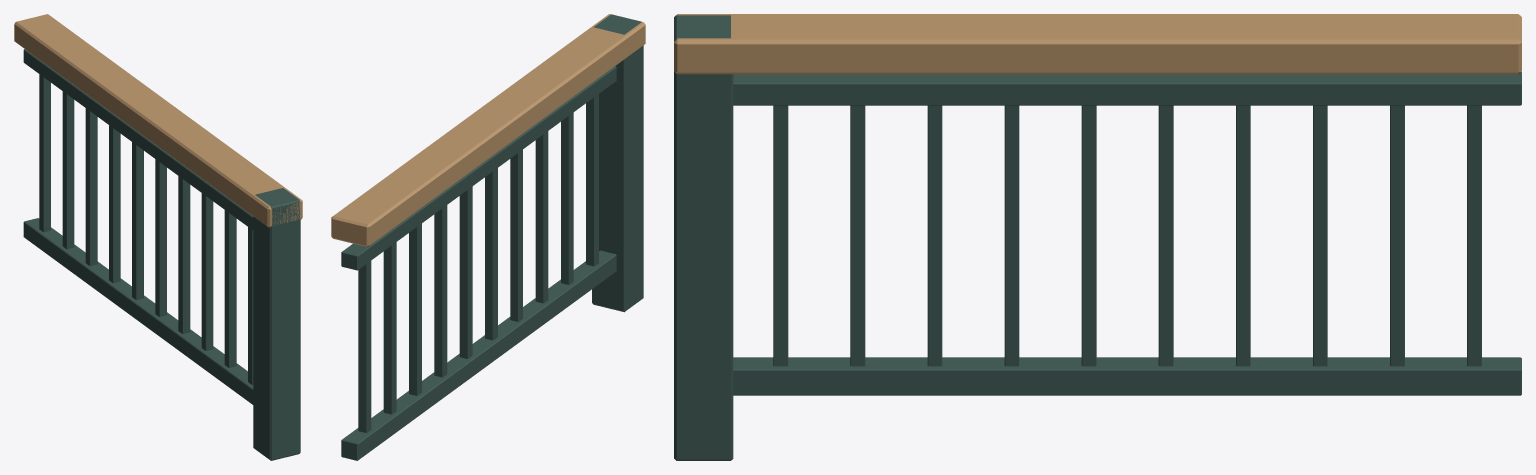
File: RIVER_RAIL_MODULE_2M.fbx
The picture shows the model from 3 angles, left to right: view 1: azimuth 30°, elevation 25°; view 2: azimuth 150°, elevation 25°; view 3: azimuth 270°, elevation 25°; orthographic projection. The views are drawn at different scales.
Parts seen in each view (by area): view 1: RIVER_RAIL_MODULE_2M; view 2: RIVER_RAIL_MODULE_2M; view 3: RIVER_RAIL_MODULE_2M.
Part boxes in pixels (x1,y1,x2,y2): RIVER_RAIL_MODULE_2M: (14,14,302,460); RIVER_RAIL_MODULE_2M: (331,14,645,460); RIVER_RAIL_MODULE_2M: (674,14,1521,460).
Size of the model in its own units: 0.16 by 1.1 by 2.
